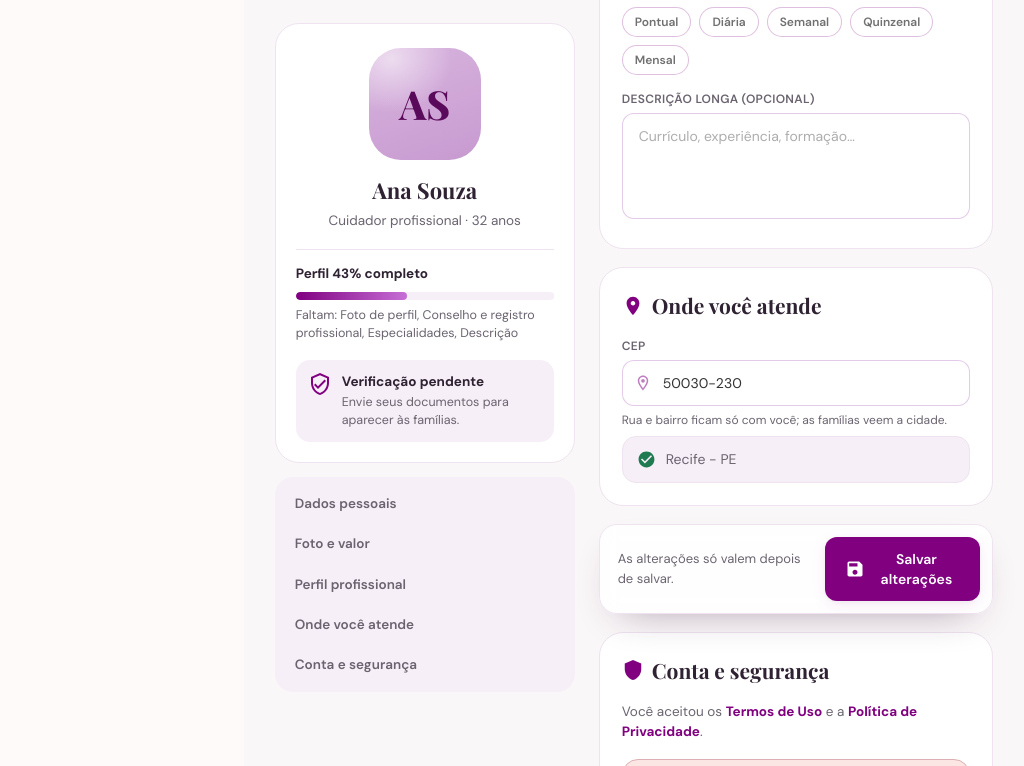
Scenario: Página de Perfil › CEP inexistente avisa e limpa o endereço
(page scrolled)
Expected: the text "Recife - PE" is shown, [666,448,736,470]
Step 1. Replace the text in the field labelled "CEP" with "00000000" → (796, 382), box [622,360,970,406]
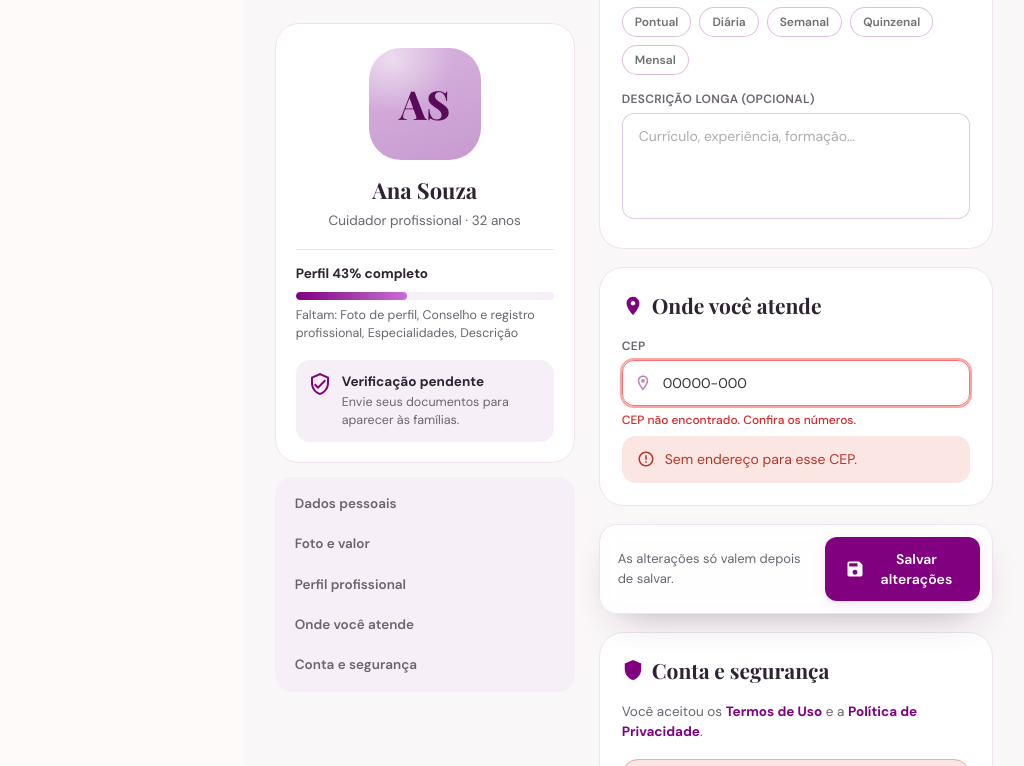
Expected: the text "CEP não encontrado. Confira os números." is shown, [622,412,856,428]
Expected: the text "Recife - PE" is gone
